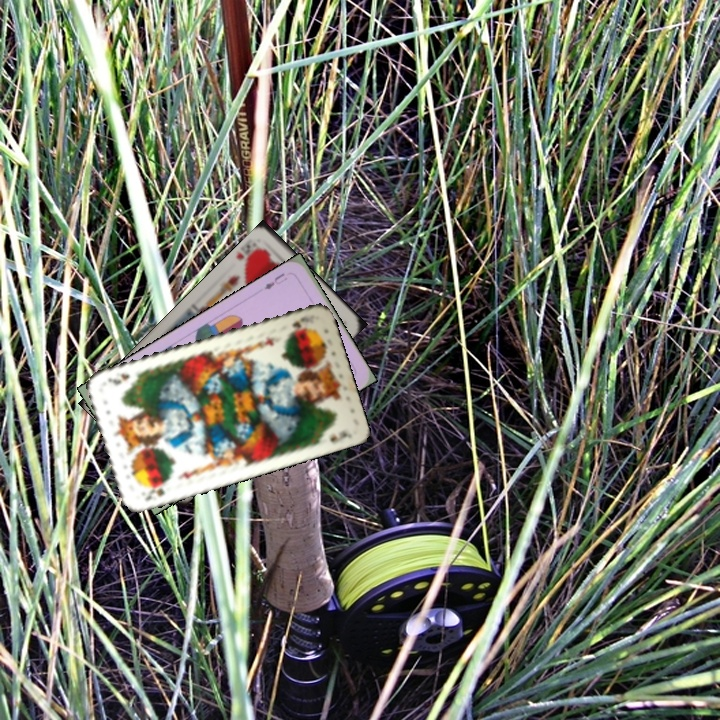EU: (260, 269, 290, 292)
HK: (232, 244, 264, 268)
SK: (141, 479, 168, 503), (286, 312, 312, 334)
